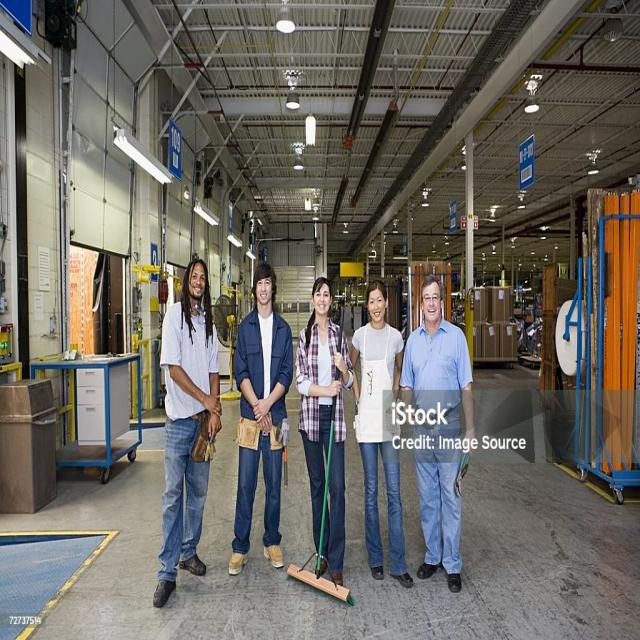Boots: (147, 564, 183, 612), (175, 539, 210, 582), (264, 542, 288, 566), (230, 546, 247, 578), (370, 563, 386, 582)
